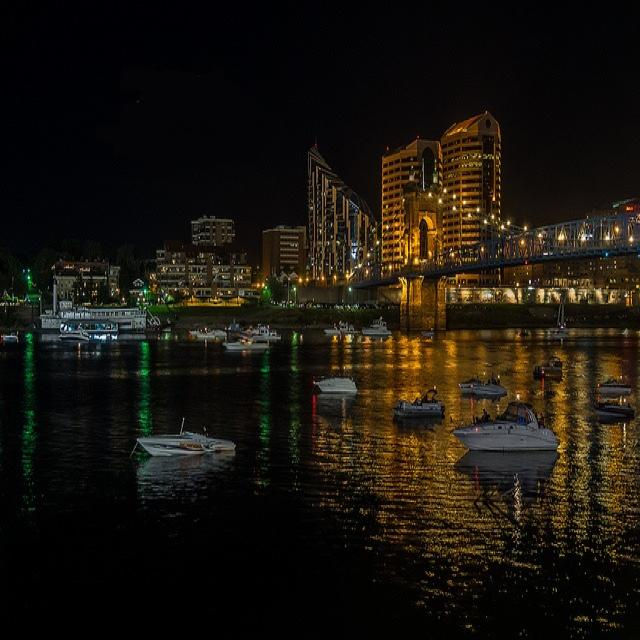Boat: (449, 390, 570, 487), (26, 289, 165, 370), (128, 408, 238, 495), (382, 377, 460, 432), (202, 334, 299, 373), (326, 310, 398, 348), (602, 360, 640, 423), (307, 374, 370, 411), (187, 299, 224, 341), (535, 355, 567, 389)
